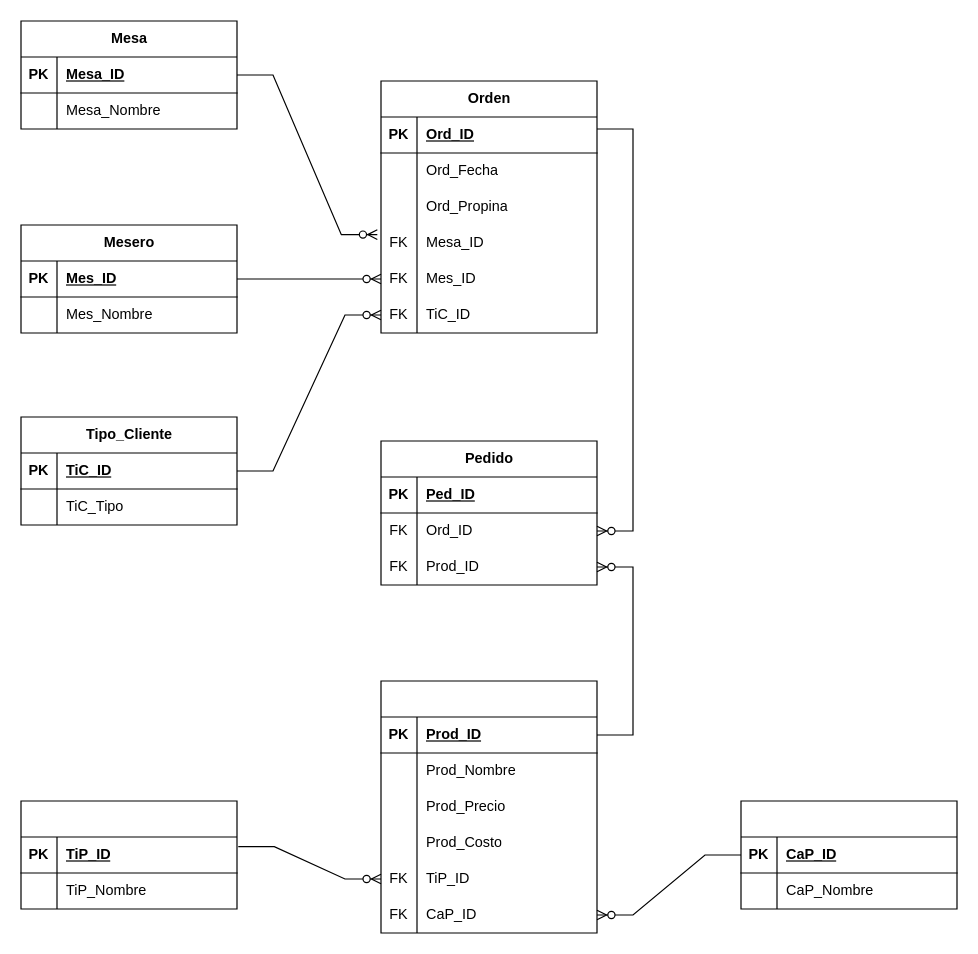
The diagram is 978 pixels wide and 954 high, and some of its shapes have lost their labels. Each missing label, with the box of its shape:
Categoria_Producto: (740, 800, 957, 909)
Producto: (380, 680, 597, 933)
Tipo_Producto: (20, 800, 237, 909)
